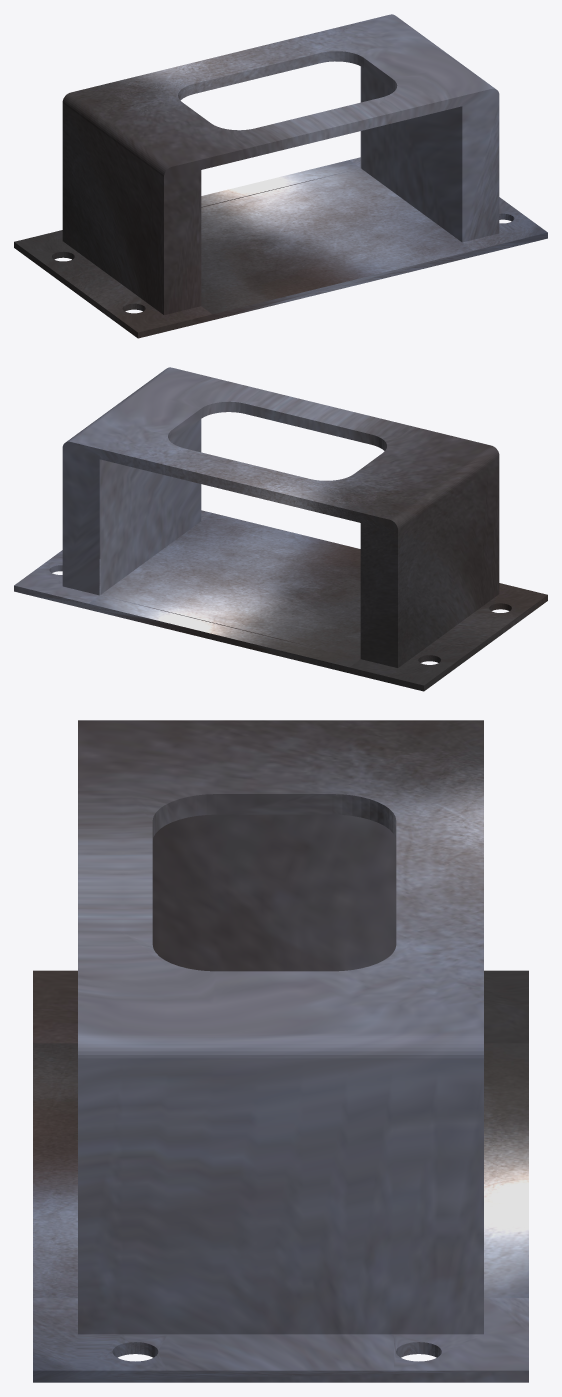
The model's file is sandc.glb.
3 views of the same model, one above another, from view 1: azimuth 30°, elevation 25°; view 2: azimuth 150°, elevation 25°; view 3: azimuth 270°, elevation 25° (orthographic). The views are drawn at different scales.
Parts seen in each view (by area): view 1: Cube; view 2: Cube; view 3: Cube.
Boxes of the visible parts, x1,y1,x2,y2 form: Cube: (14,14,547,338); Cube: (14,367,547,691); Cube: (33,720,528,1382).
Size of the model in its own units: 14.98 by 5.32 by 7.85.
1 material, 1 textured.
